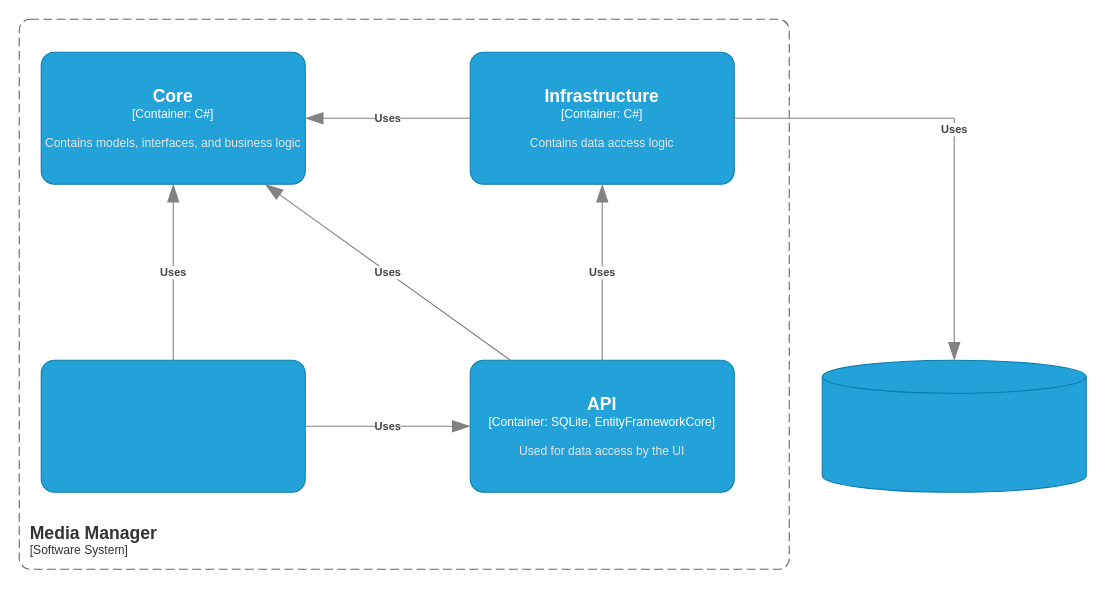
Image size: 1106x589. Some labels were removed from this diagram. Each missing label, with the centre of its shape:
"Database [Container: Azure or SQLite] Database for all data" goes at (x=953, y=425).
"MVC [Container: ASP.NET Core] UI component of the media manager" goes at (x=172, y=425).
